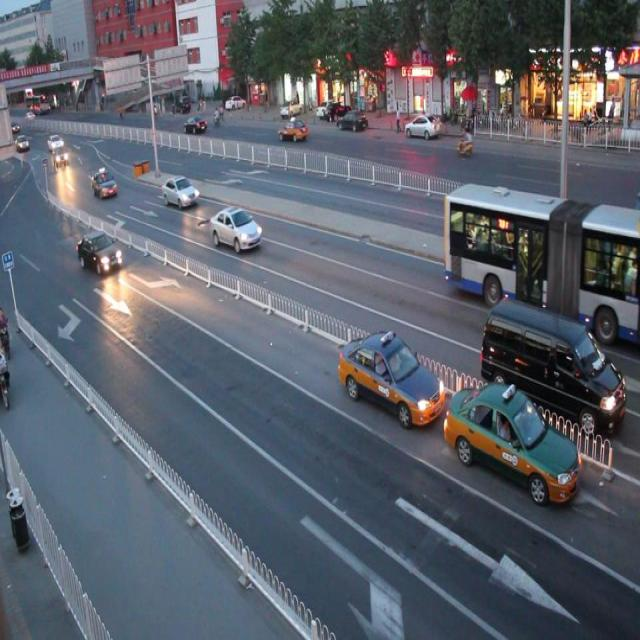car: (444, 380, 581, 504), (338, 330, 444, 427), (210, 205, 262, 252), (77, 230, 122, 274), (162, 176, 198, 208), (278, 118, 308, 144)
truck: (481, 298, 626, 432)
van: (443, 182, 640, 343)
